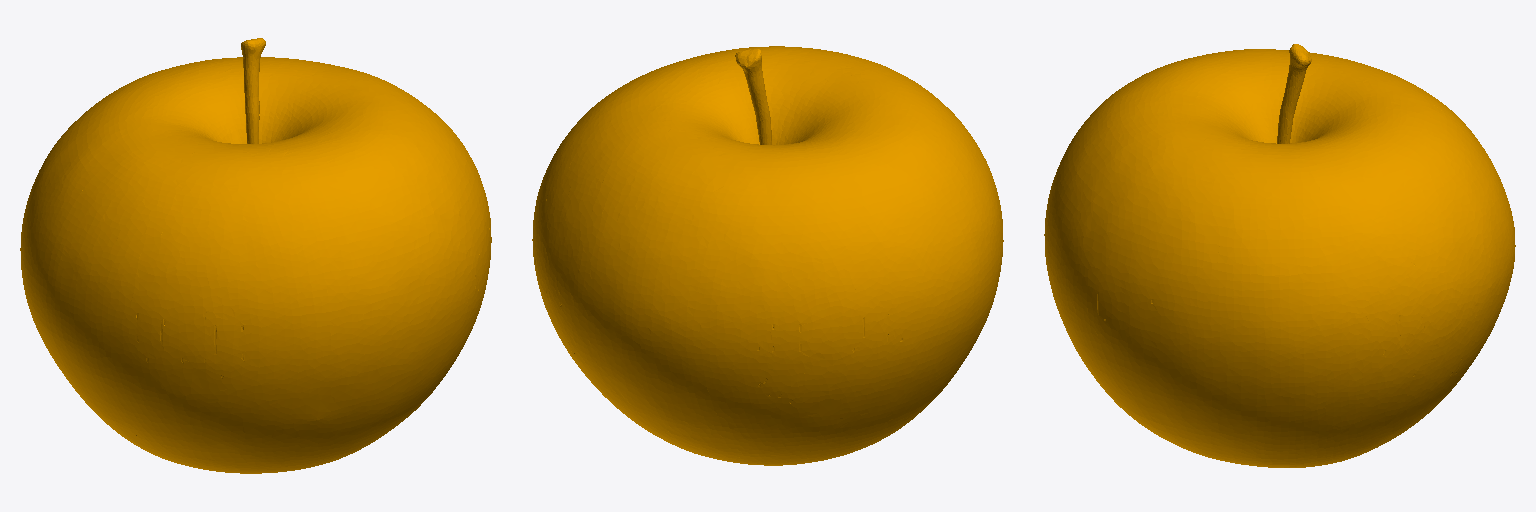
The robot description file, URDF, robot "sample":
<?xml version='1.0' encoding='utf-8'?>
<robot name="sample">
   <link name="sample">
      <visual>
         <origin xyz="0 0 0" rpy="1.5708 0.0 0.0" />
         <geometry>
            <mesh filename="mesh/sample.obj" scale="1.0 1.0 1.0" />
         </geometry>
      </visual>
      <collision>
         <origin xyz="0 0 0" rpy="1.5708 0.0 0.0" />
         <geometry>
            <mesh filename="mesh/sample_collision.obj" scale="1.0 1.0 1.0" />
         </geometry>
         <gazebo>
            <mu1>0.50</mu1>
            <mu2>0.40</mu2>
         </gazebo>
      </collision>
      <inertial>
         <mass value="0.1750" />
         <origin xyz="0 0 0" />
         <inertia ixx="0.000002" ixy="-0.000000" ixz="0.000000" iyy="0.000002" iyz="-0.000000" izz="0.000002" />
      </inertial>
      <extra_info>
         <scale>0.101688</scale>
         <version>v0.1.7</version>
         <category>apple</category>
         <description>red apple with stem and natural texture</description>
         <min_height>0.08</min_height>
         <max_height>0.1</max_height>
         <real_height>0.09</real_height>
         <min_mass>0.15</min_mass>
         <max_mass>0.2</max_mass>
         <generate_time>20260204094510</generate_time>
         <gs_model>mesh/sample_gs.ply</gs_model>
      </extra_info>
   </link>
   <custom_data>
      <quality>
         <MeshGeoChecker>YES</MeshGeoChecker>
         <ImageSegChecker>NO, object not centered, background artifacts present, incomplete segmentation.</ImageSegChecker>
         <ImageAestheticChecker>4.91241180896759</ImageAestheticChecker>
         <overall>NO</overall>
      </quality>
   </custom_data>
</robot>

--- What the picture shows (computed from the rendered views, not written in the file) ---
Views: 3 orthographic renders of the robot side by side, from view 1: azimuth 30°, elevation 25°; view 2: azimuth 150°, elevation 25°; view 3: azimuth 270°, elevation 25°.
Robot: sample — 1 links, 0 joints (none); root link sample; default pose: every joint at zero.
Links seen in each view (by area): view 1: sample; view 2: sample; view 3: sample.
Link boxes in pixels (x1,y1,x2,y2): sample: (20, 38, 491, 473); sample: (532, 46, 1003, 465); sample: (1044, 44, 1515, 467).
Bounding box of the posed robot: 0.1017 × 0.0995 × 0.09 m (x, y, z).
Meshes: 1 distinct files referenced, 1 mesh visuals loaded (1 OBJ).
